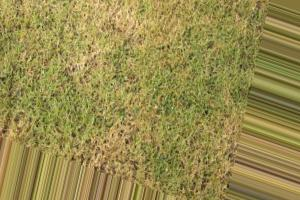patch: (59, 10, 191, 65)
